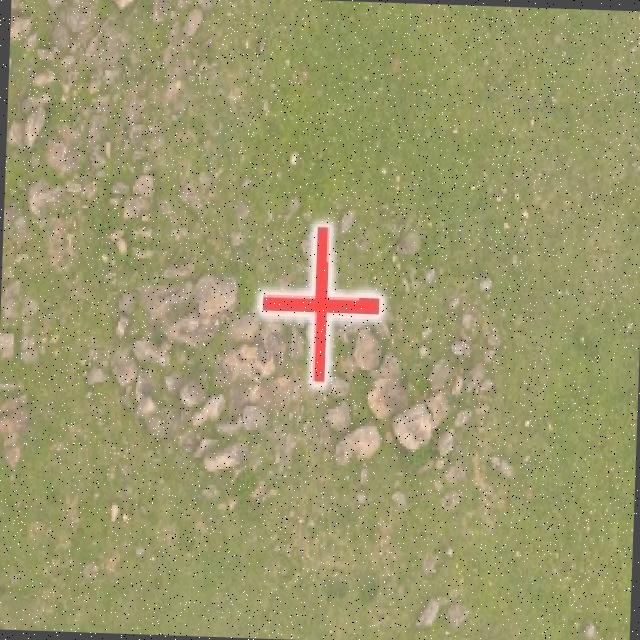x_marker: (257, 223, 382, 385)
